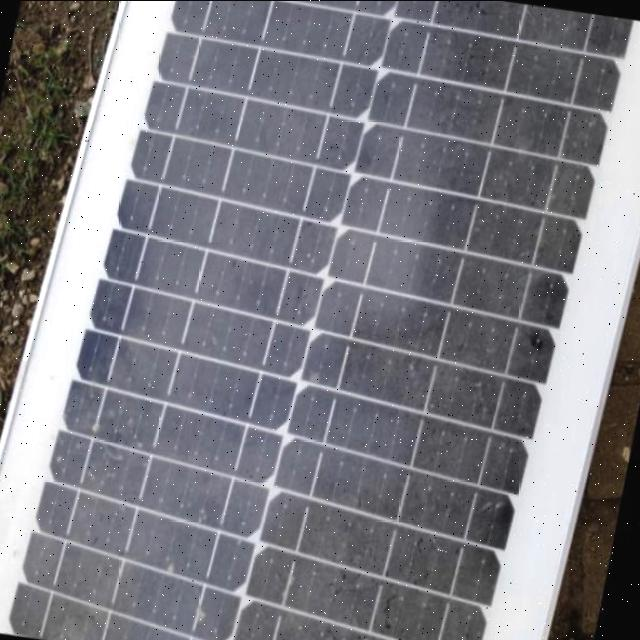Anomaly Solar Panel: (23, 0, 640, 640)
Surface Contaminant: (30, 0, 634, 640)
